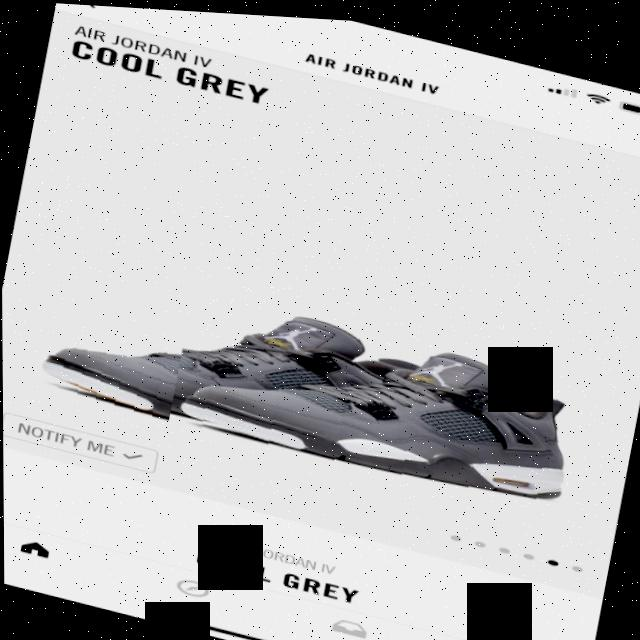shoe: (164, 285, 606, 540), (32, 246, 423, 482)
